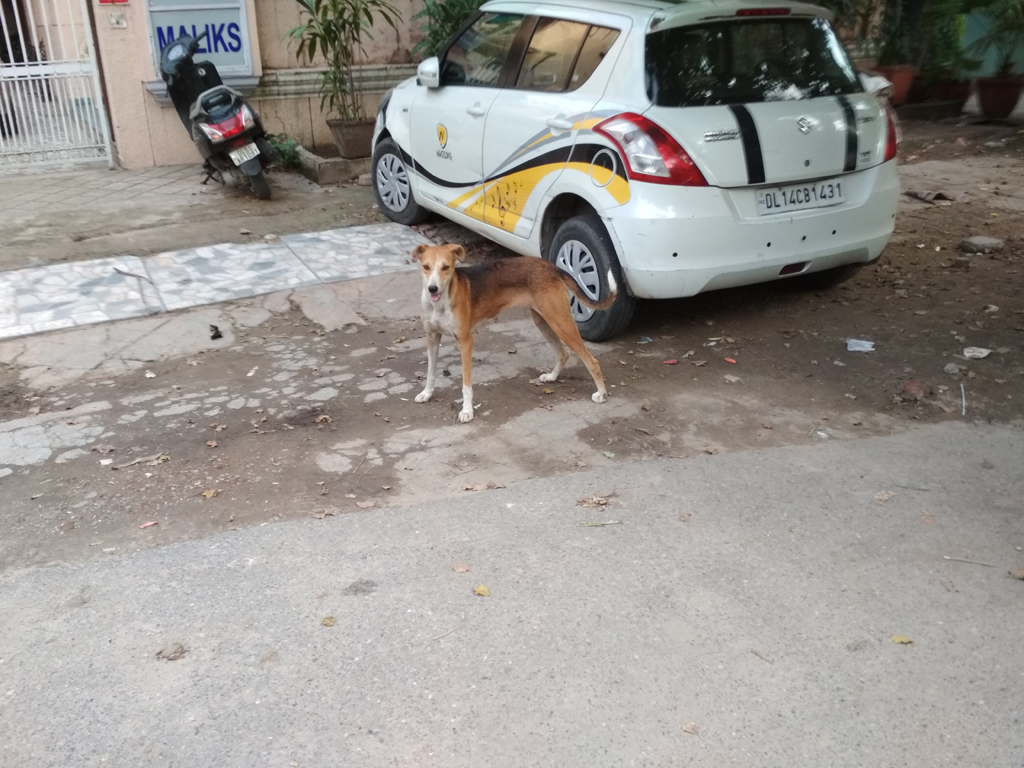dog: (411, 243, 618, 423)
